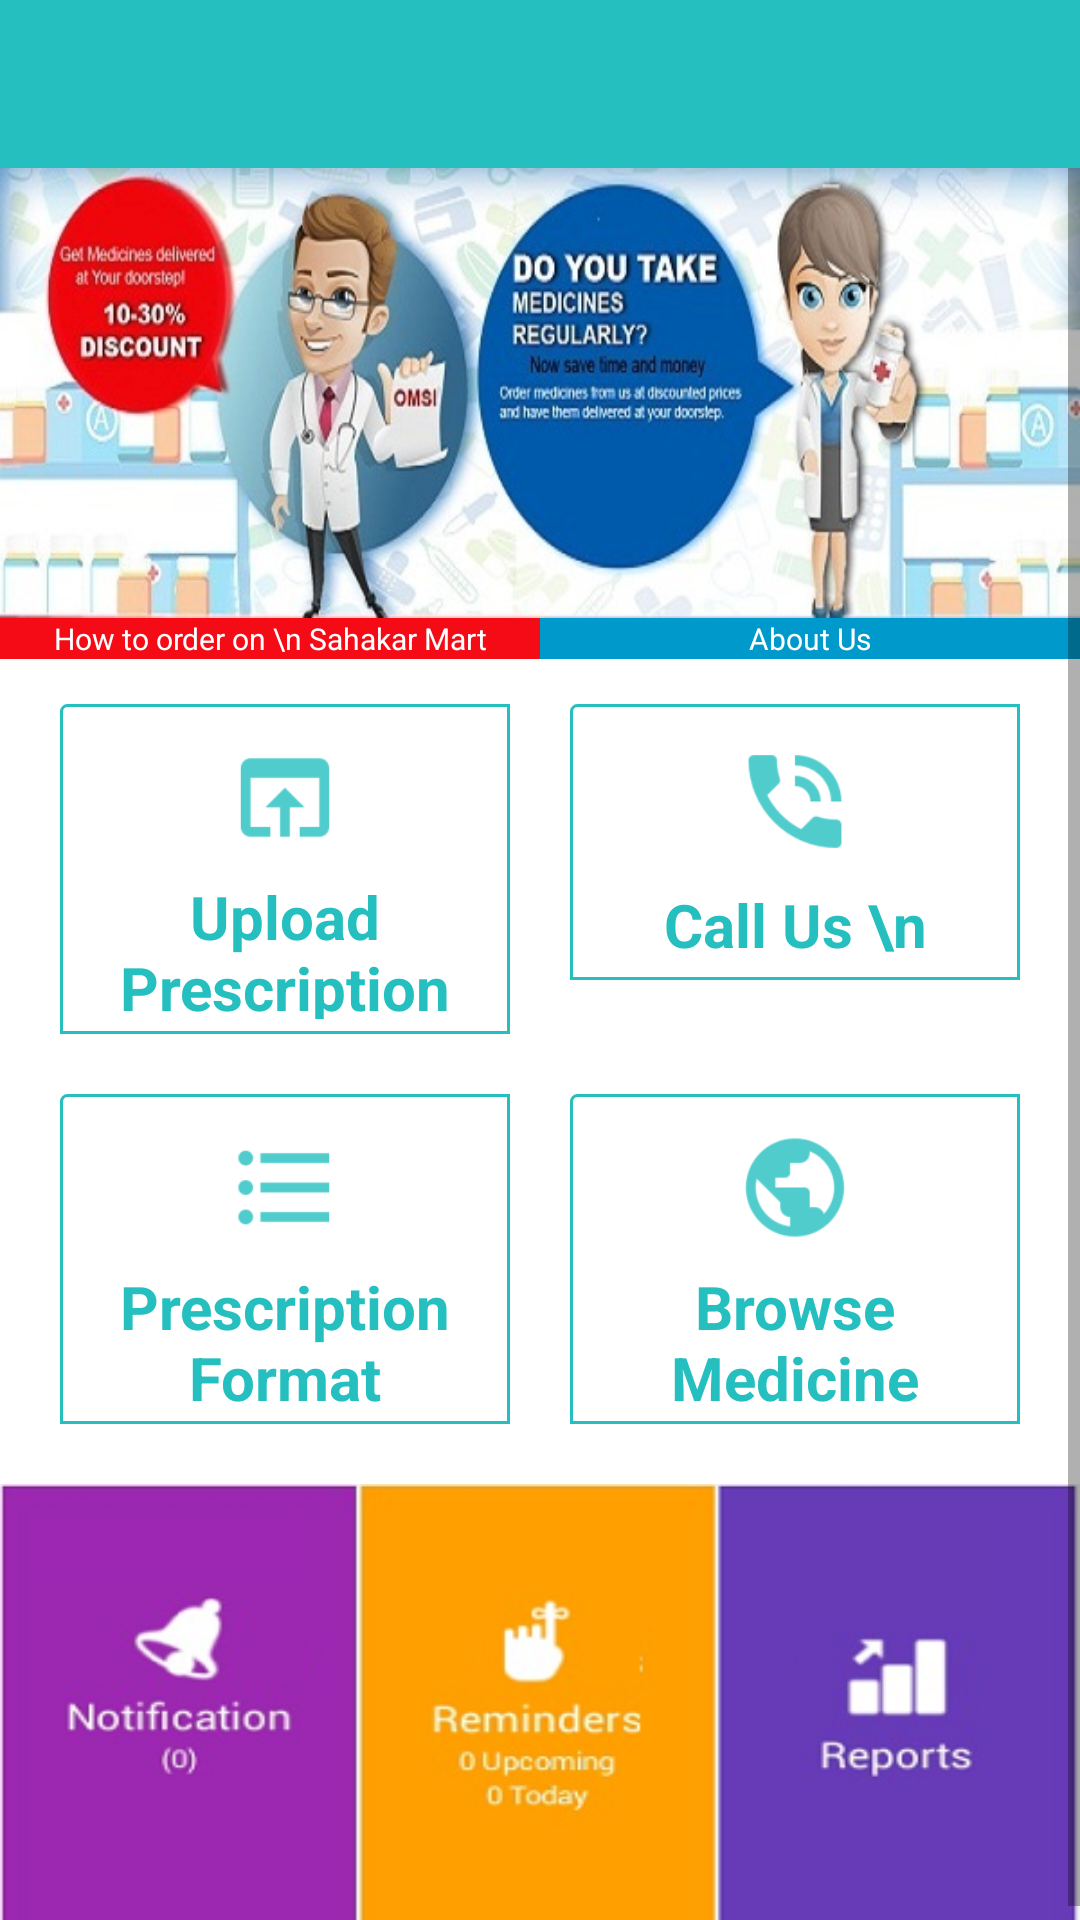

Icon click points for this 1080px x 1920px phone screenshot, format (x=x, y=y):
call cyan: (x=795, y=801)
public: (x=795, y=1187)
uplaod cyan: (x=285, y=797)
